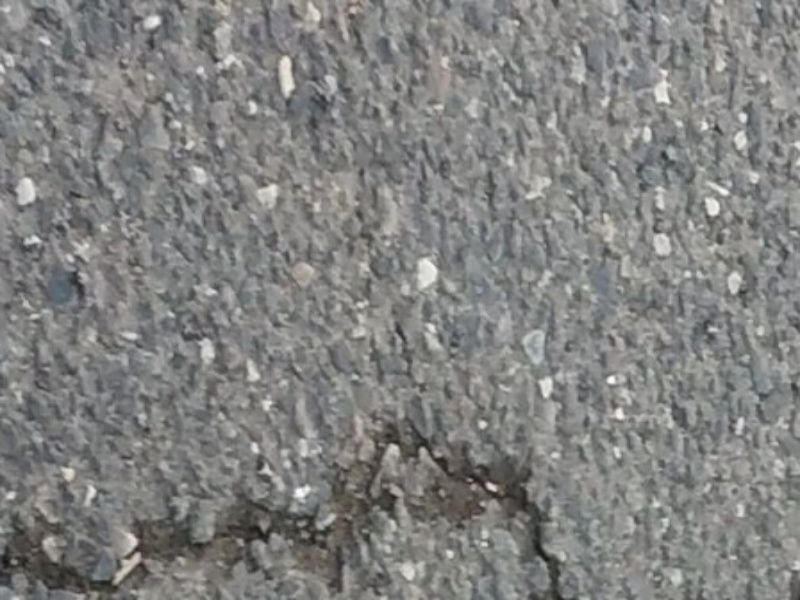crack: (7, 433, 556, 588)
